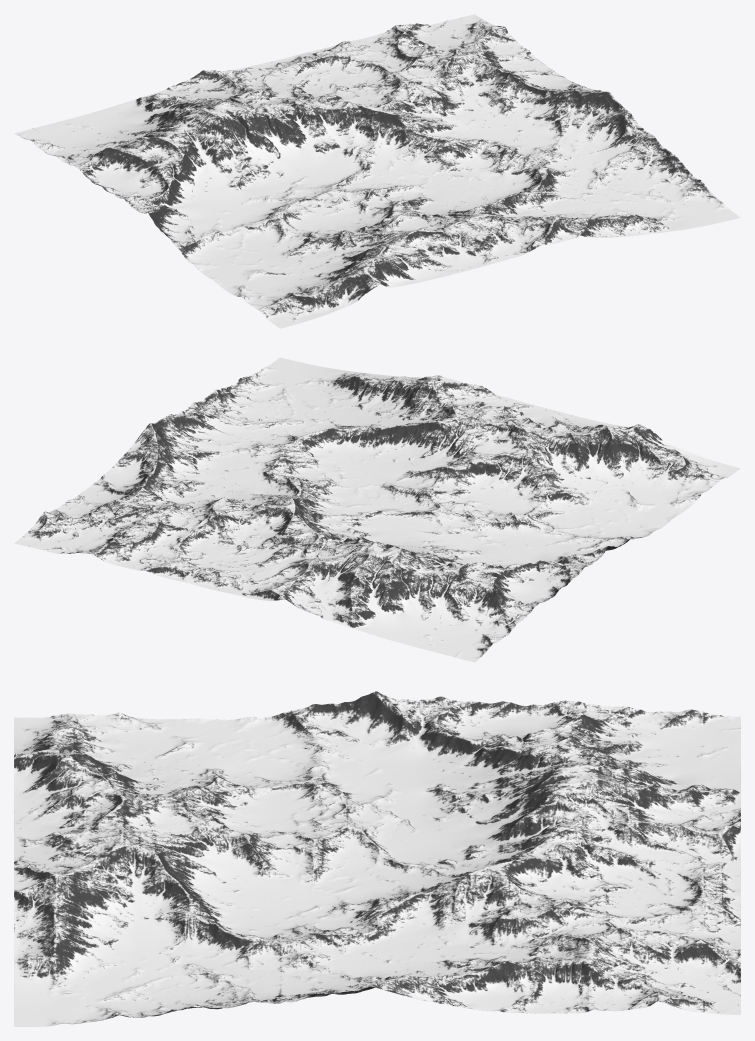
Rendered from snow_mtn_01.glb.
3 views of the same model, one above another, from view 1: azimuth 30°, elevation 25°; view 2: azimuth 150°, elevation 25°; view 3: azimuth 270°, elevation 25° (orthographic). The views are drawn at different scales.
Visible parts, largest first — view 1: Object_2, Object_3, Object_4; view 2: Object_3, Object_2, Object_4; view 3: Object_2, Object_3, Object_4.
Part boxes in pixels (box(x1,y1,x2,y2)): Object_2: box(14, 55, 740, 328); Object_3: box(30, 14, 733, 275); Object_4: box(203, 150, 727, 319); Object_3: box(14, 362, 661, 658); Object_2: box(85, 357, 740, 662); Object_4: box(208, 364, 724, 527); Object_2: box(14, 691, 740, 1026); Object_3: box(32, 691, 740, 1026); Object_4: box(26, 717, 241, 1025).
Bounding box in the file's own units: 2 × 0.1421 × 2.
1 material, 1 textured.
